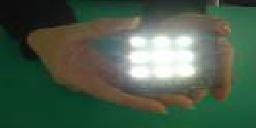LED: (124, 33, 199, 84)
